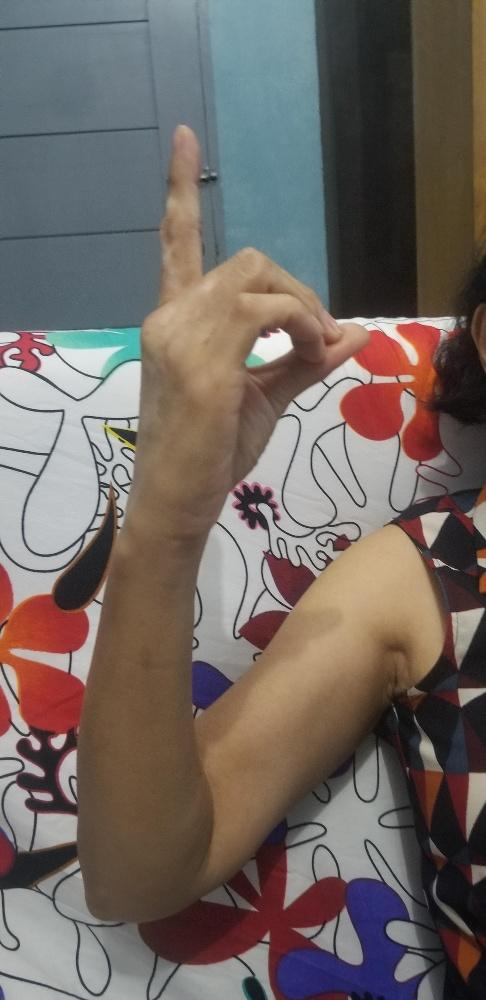d: (133, 121, 370, 519)
